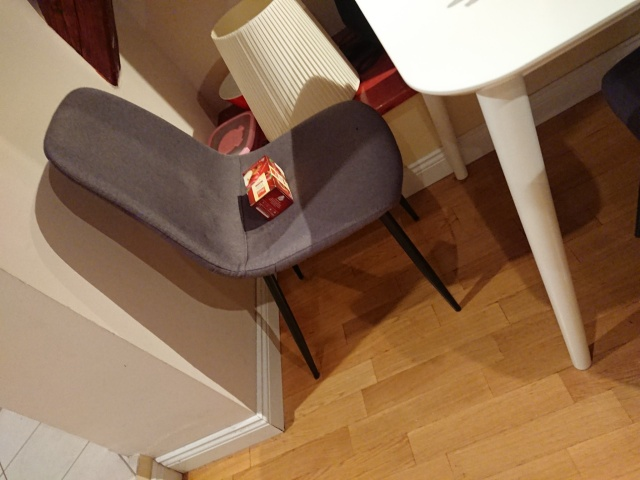Franck Apple Cinnamon Tea 60g: (239, 153, 296, 222)
